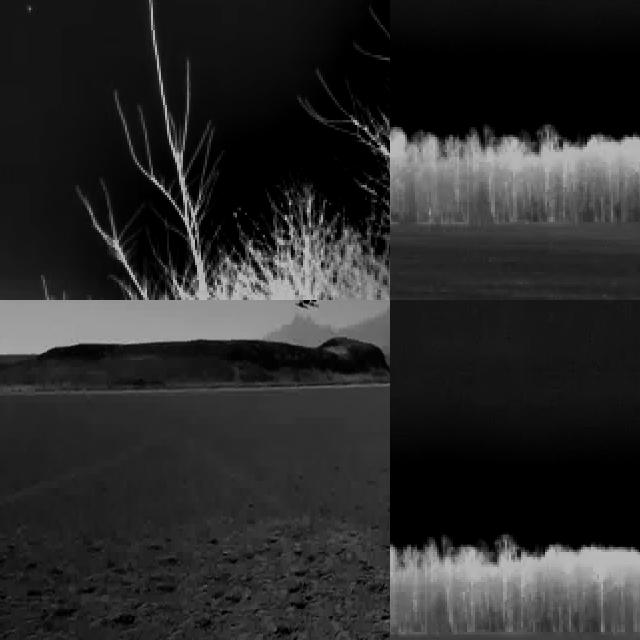0: (14, 0, 40, 28)
drone: (273, 300, 339, 314)
